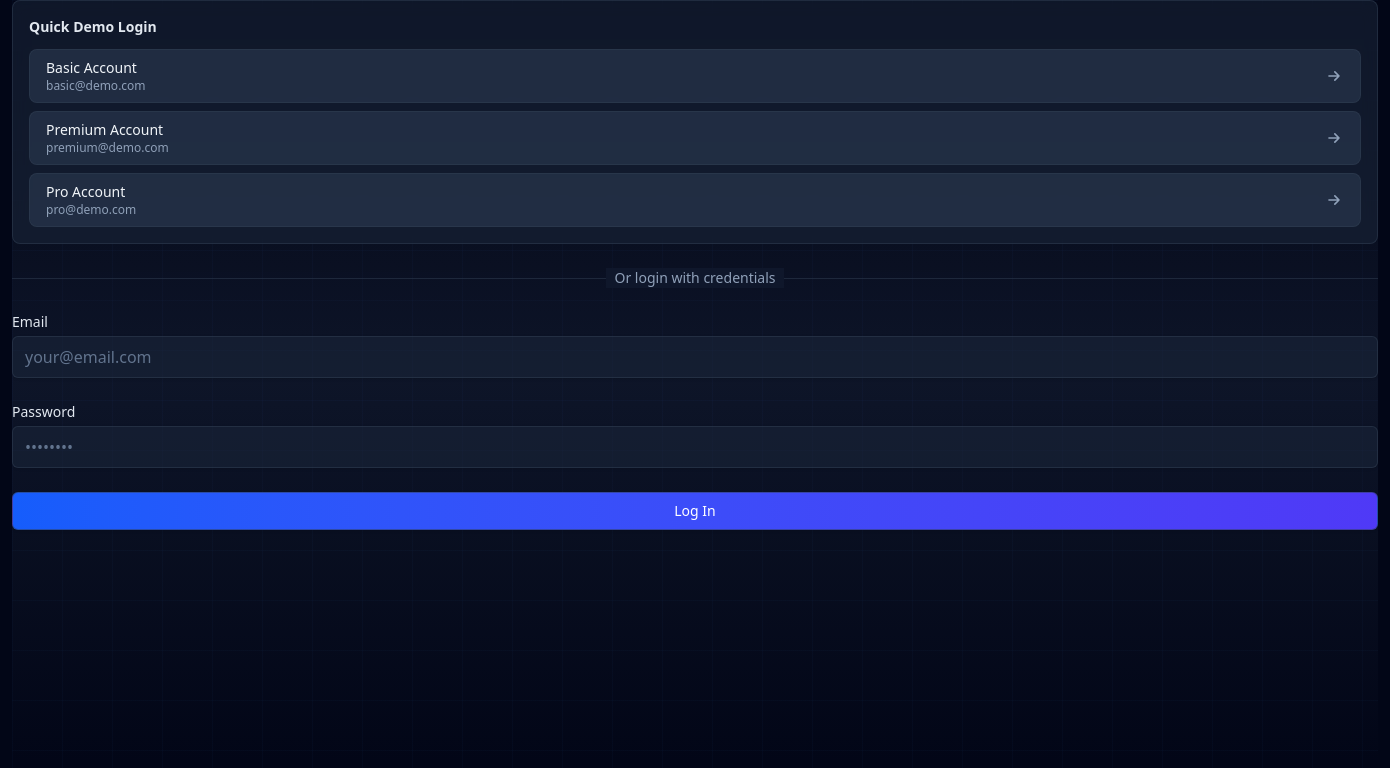
Test: LoginForm › Submission Flow › should not submit form with validation errors
Click the button with test id "submit-button" at x=695, y=511, box [12, 492, 1378, 530]
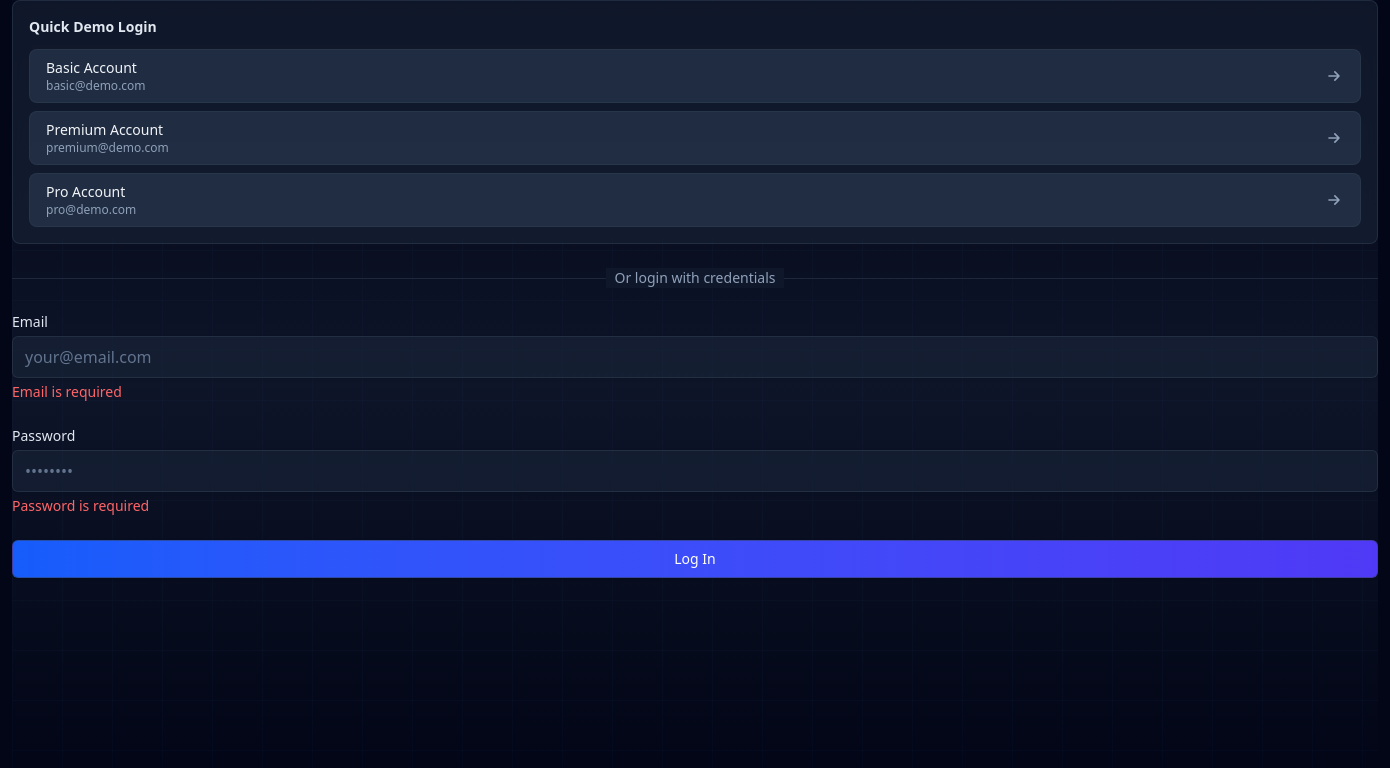
expect the text "Email is required" is shown: met, box [12, 382, 122, 401]
expect the text "Password is required" is shown: met, box [12, 496, 149, 515]
